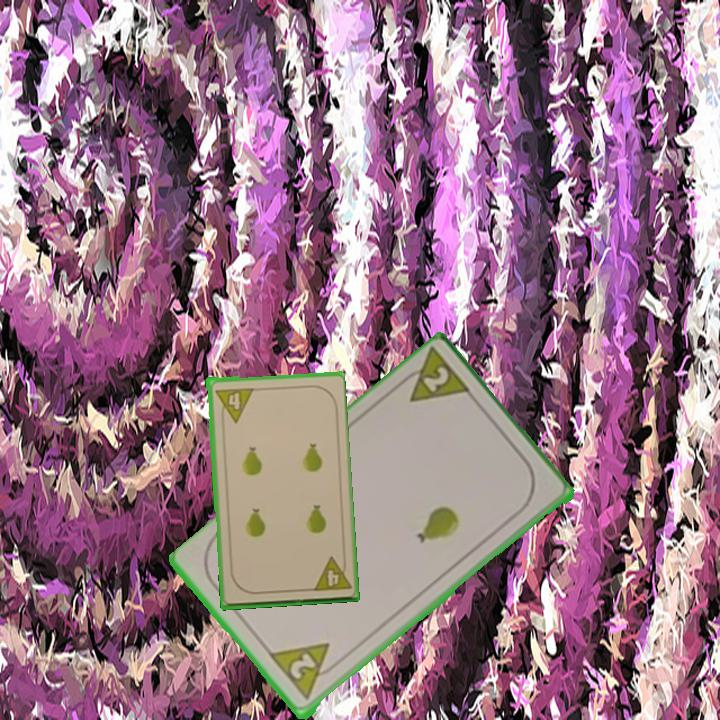2p: (392, 346, 475, 407), (267, 639, 344, 704)
4p: (309, 552, 354, 594), (211, 384, 255, 425)
